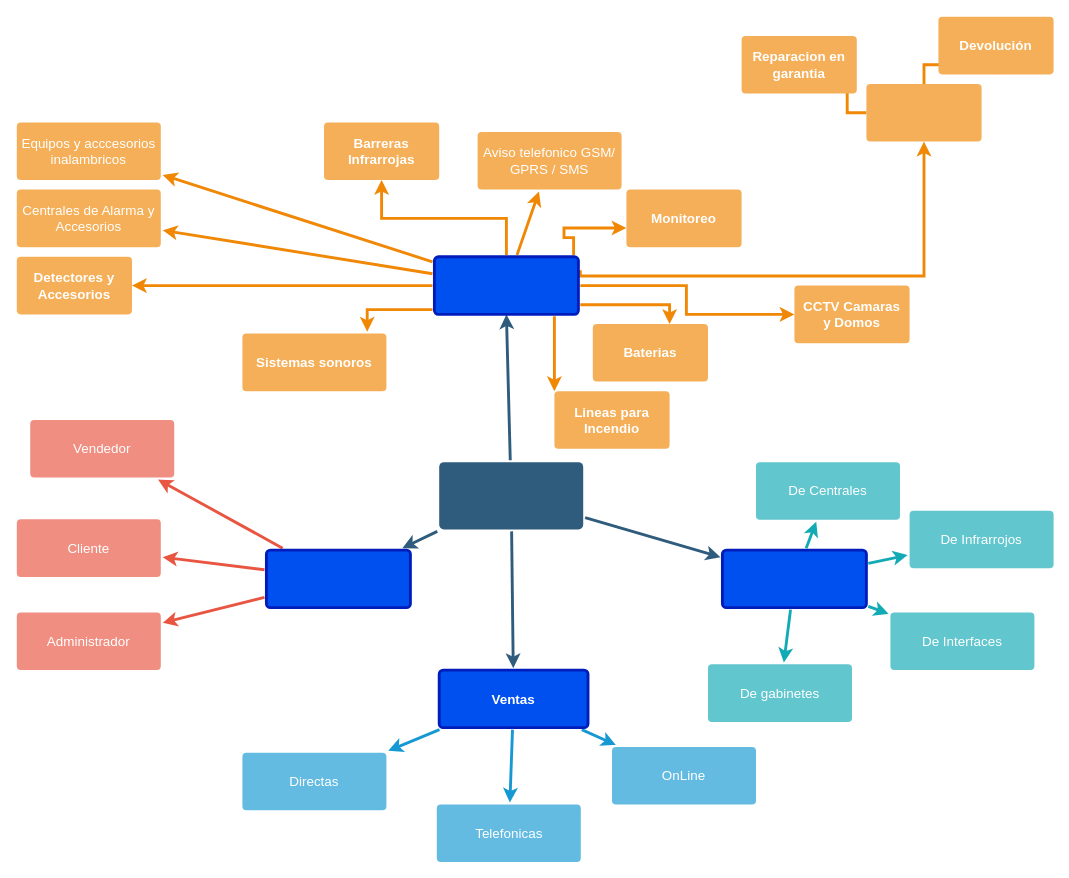
Image size: 1069x878. Some labels were removed from this diagram. The centre of each missing label's shape, as x and y in pixels:
"Productos" belongs at (505,285).
"Proveedores" belongs at (793,578).
"RMA" belongs at (923,112).
"Sistema Gestion MG Alarmas" belongs at (511,495).
"Usuarios" belongs at (337,578).
